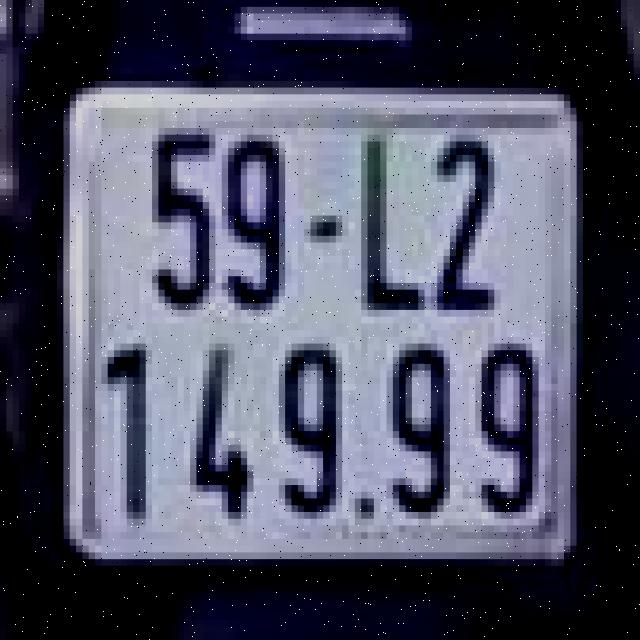1: (98, 334, 162, 536)
2: (434, 131, 510, 320)
4: (184, 330, 253, 526)
5: (142, 118, 218, 320)
9: (222, 125, 304, 326), (472, 337, 555, 532), (384, 330, 459, 526), (276, 337, 352, 519)
L: (348, 128, 431, 317)
